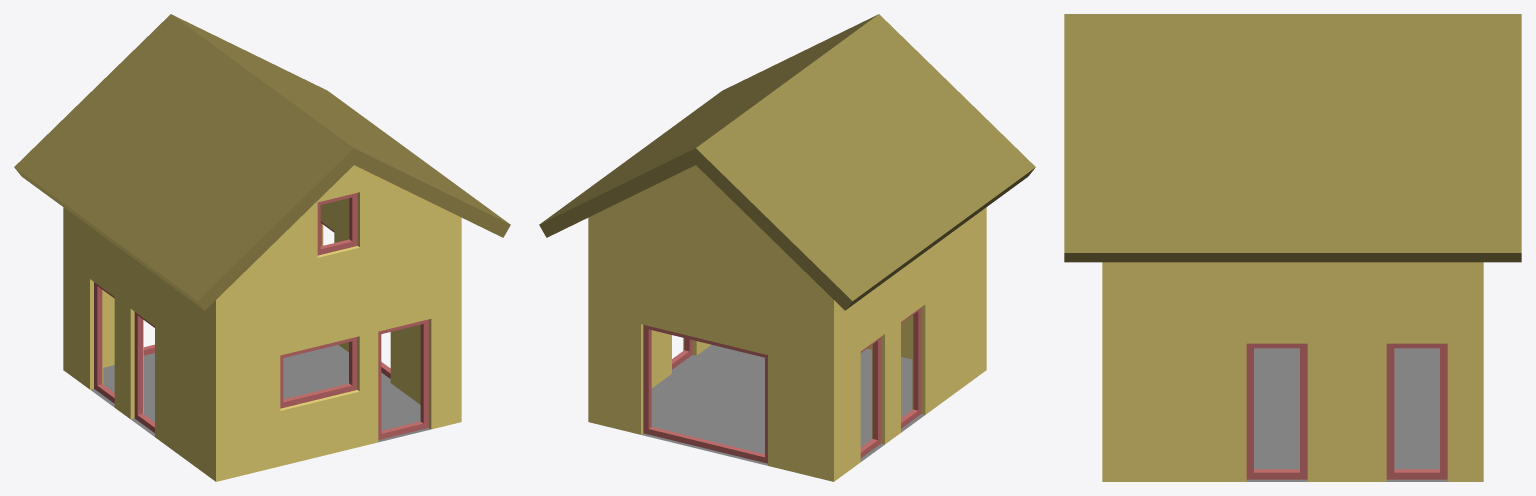
Rendered from result.glb.
3 renders of one model, left to right at view 1: azimuth 30°, elevation 25°; view 2: azimuth 150°, elevation 25°; view 3: azimuth 270°, elevation 25°, orthographic. The views are drawn at different scales.
Visible parts, largest first — view 1: 0e066084-3f68-41cf-a31a-0c96b3fab3c5__undefined, 3cfdc9dc-81ba-4a08-9872-803204149f6c__undefined (×2), f5e14ec9-9ef8-4026-84a7-603a767e9a76__Plane_12, 6f46aa84-cc95-402e-aef7-604f8bc929ba__Box, 1facad87-de37-4eb2-b4bc-f8c3dbab50ef__Box_3, 47c9ef06-bce8-4b7b-9ed4-842760d3052e__Box_12, 77f52f23-77e0-4399-9151-a78995941117__Box_15, 623e7189-3669-4384-bc16-dc91553e55f7__Box_6; view 2: 0e066084-3f68-41cf-a31a-0c96b3fab3c5__undefined, 3cfdc9dc-81ba-4a08-9872-803204149f6c__undefined (×2), f5e14ec9-9ef8-4026-84a7-603a767e9a76__Plane_12, e44b77aa-33c5-40e8-a3d0-19f97a441018__Box_9, 47c9ef06-bce8-4b7b-9ed4-842760d3052e__Box_12, 77f52f23-77e0-4399-9151-a78995941117__Box_15; view 3: 3cfdc9dc-81ba-4a08-9872-803204149f6c__undefined, 0e066084-3f68-41cf-a31a-0c96b3fab3c5__undefined, f5e14ec9-9ef8-4026-84a7-603a767e9a76__Plane_12, 27c76257-e3f8-4ca0-9433-254b65946d9f__Box_27, 73f7e007-63ea-40f2-9ec0-2313514e2621__Box_24.
Boxes of the visible parts, x1,y1,x2,y2 form: 0e066084-3f68-41cf-a31a-0c96b3fab3c5__undefined: (63, 165, 461, 481); 3cfdc9dc-81ba-4a08-9872-803204149f6c__undefined (×2): (14, 14, 510, 310); f5e14ec9-9ef8-4026-84a7-603a767e9a76__Plane_12: (90, 345, 430, 442); 6f46aa84-cc95-402e-aef7-604f8bc929ba__Box: (378, 319, 428, 439); 1facad87-de37-4eb2-b4bc-f8c3dbab50ef__Box_3: (280, 337, 357, 408); 47c9ef06-bce8-4b7b-9ed4-842760d3052e__Box_12: (134, 312, 154, 432); 77f52f23-77e0-4399-9151-a78995941117__Box_15: (94, 282, 114, 403); 623e7189-3669-4384-bc16-dc91553e55f7__Box_6: (317, 193, 357, 255); 0e066084-3f68-41cf-a31a-0c96b3fab3c5__undefined: (588, 165, 986, 481); 3cfdc9dc-81ba-4a08-9872-803204149f6c__undefined (×2): (539, 14, 1035, 310); f5e14ec9-9ef8-4026-84a7-603a767e9a76__Plane_12: (641, 345, 924, 465); e44b77aa-33c5-40e8-a3d0-19f97a441018__Box_9: (643, 325, 767, 463); 47c9ef06-bce8-4b7b-9ed4-842760d3052e__Box_12: (901, 307, 921, 428); 77f52f23-77e0-4399-9151-a78995941117__Box_15: (860, 337, 880, 457); 3cfdc9dc-81ba-4a08-9872-803204149f6c__undefined: (1064, 14, 1521, 262); 0e066084-3f68-41cf-a31a-0c96b3fab3c5__undefined: (1102, 262, 1483, 481); f5e14ec9-9ef8-4026-84a7-603a767e9a76__Plane_12: (1246, 348, 1447, 481); 27c76257-e3f8-4ca0-9433-254b65946d9f__Box_27: (1386, 343, 1447, 479); 73f7e007-63ea-40f2-9ec0-2313514e2621__Box_24: (1246, 343, 1307, 479).
Size of the model in its own units: 593 by 569 by 600.
